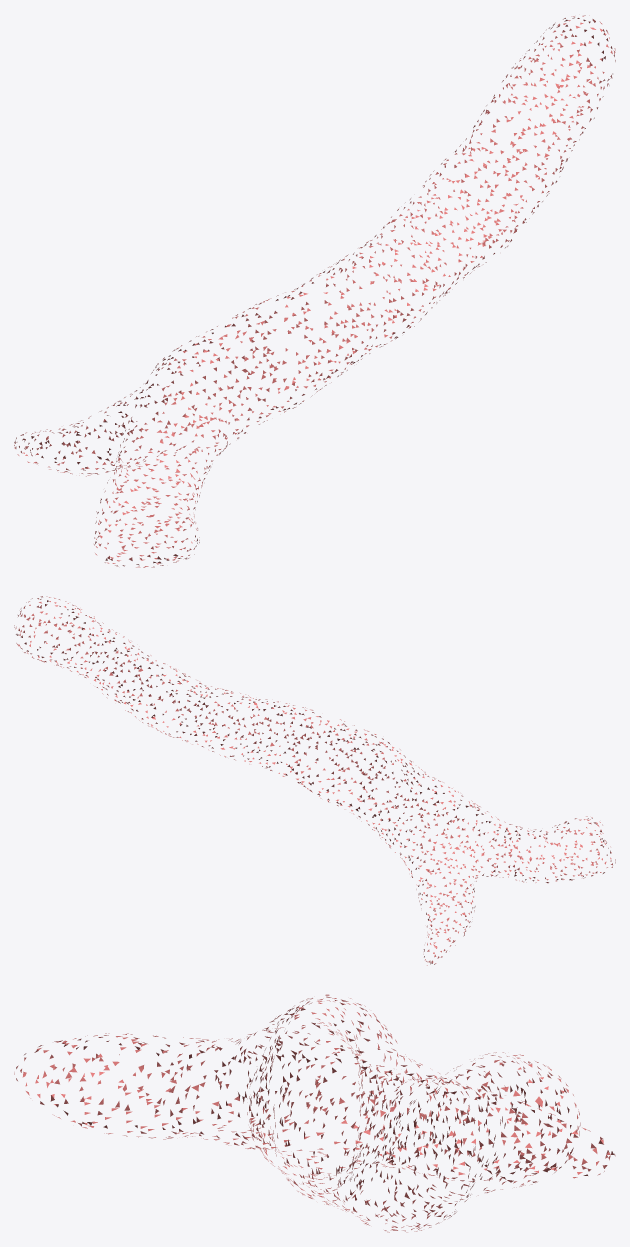
Rendered from morph_000.glb.
3 views of the same model, one above another, from view 1: azimuth 30°, elevation 25°; view 2: azimuth 150°, elevation 25°; view 3: azimuth 270°, elevation 25° (orthographic). The views are drawn at different scales.
Bounding box in the file's own units: 118 × 58.33 × 62.93.
